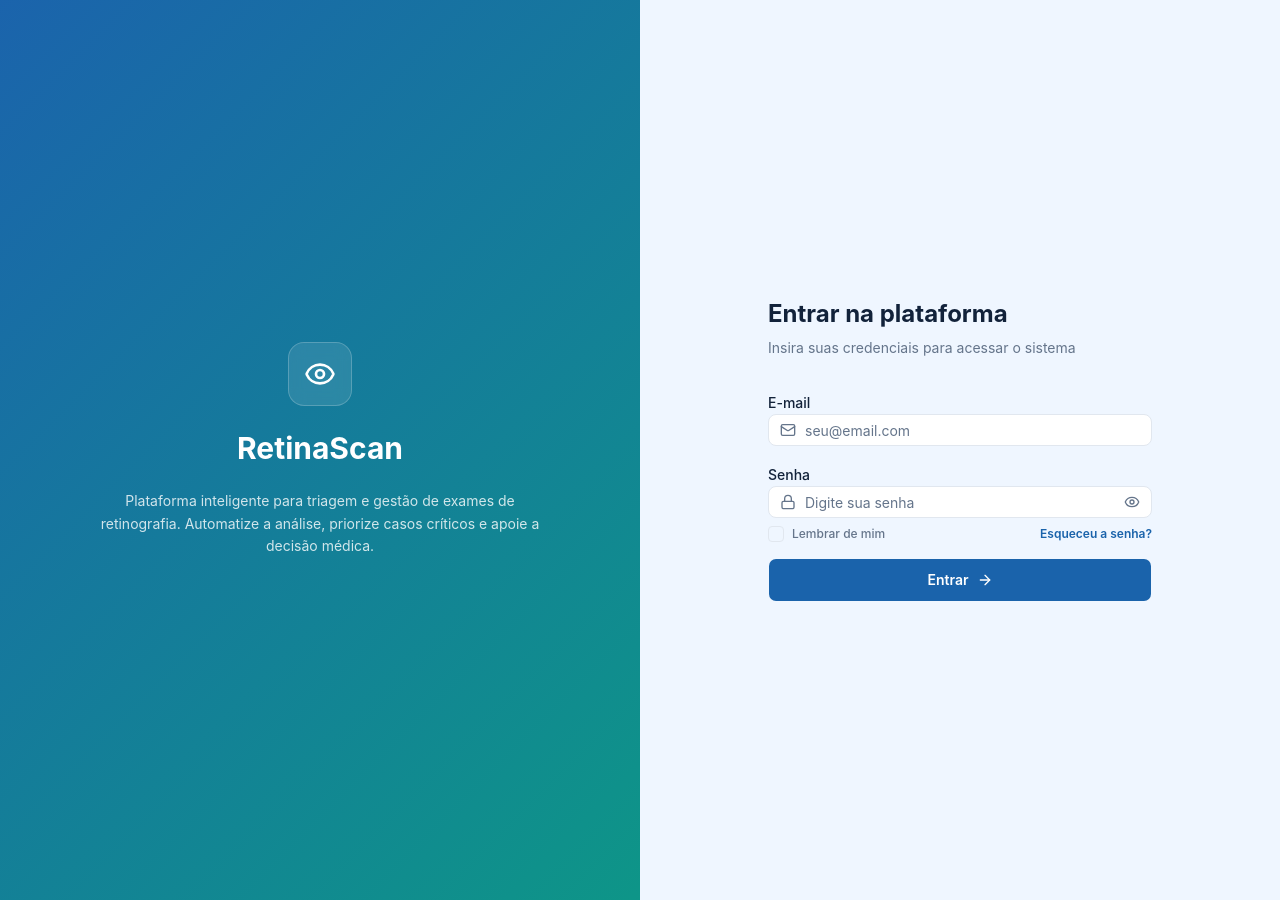
Scenario: Login › mostra erro genérico quando ocorre exceção
Type "gustavo@email.com" into the field with placeholder "seu@email.com". click: (960, 430)
box: [768,414,1152,446]
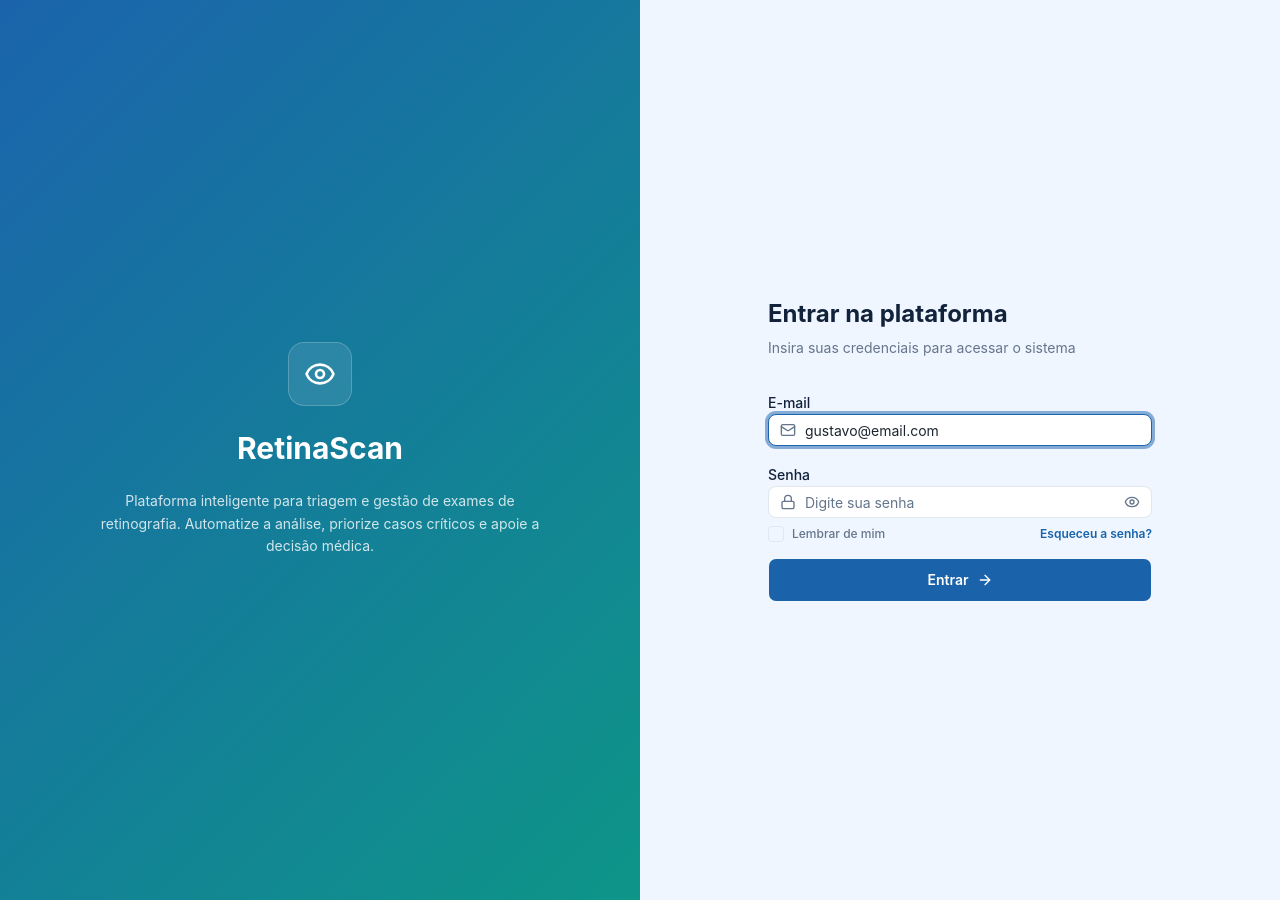
Type "123456" into the password field with placeholder "Digite sua senha". click: (960, 502)
box: [768,486,1152,518]
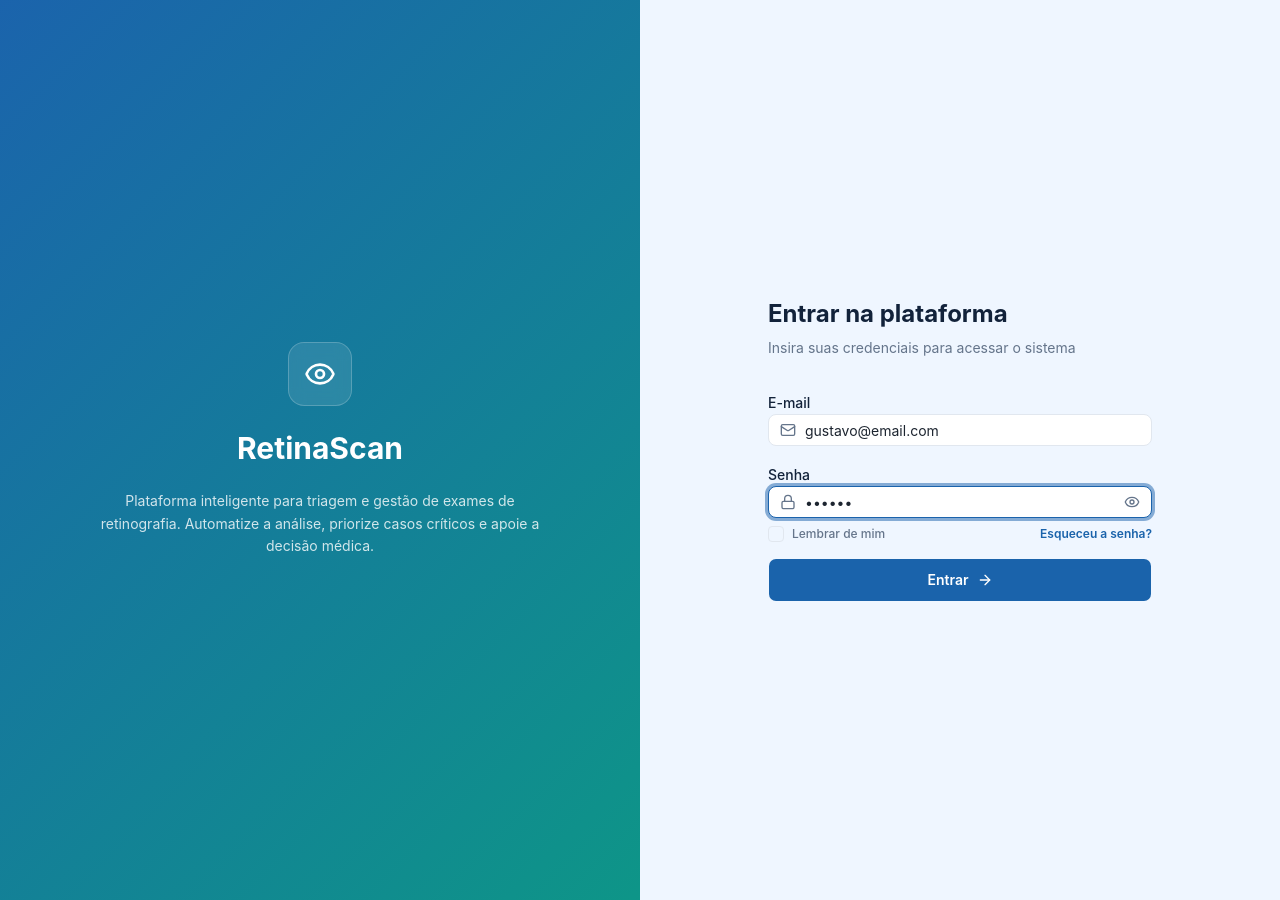
Click the button "Entrar". click: click(960, 580)
box: [768,558,1152,602]
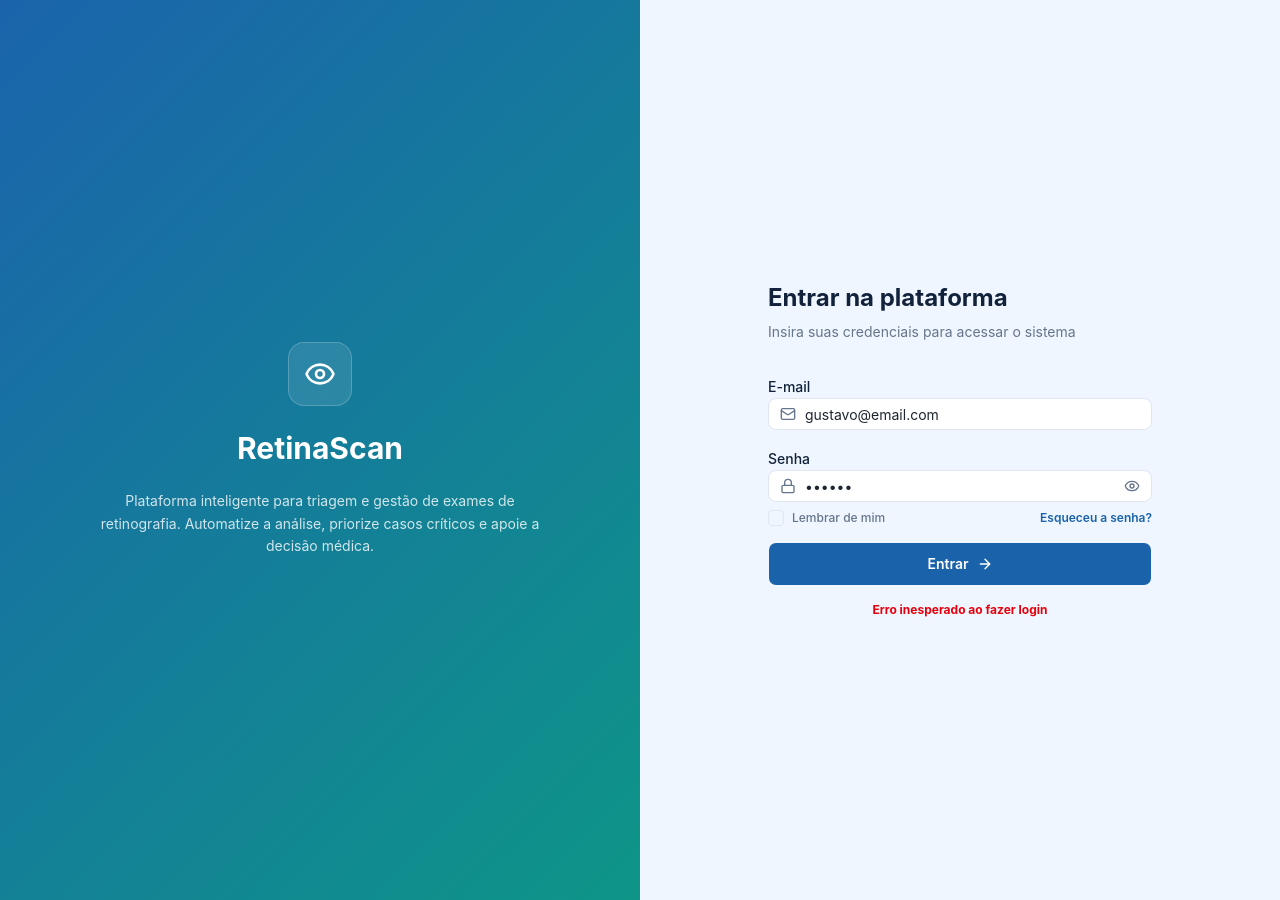
Check: the text "Erro inesperado ao fazer login" is shown, box [872,602,1047,617]
